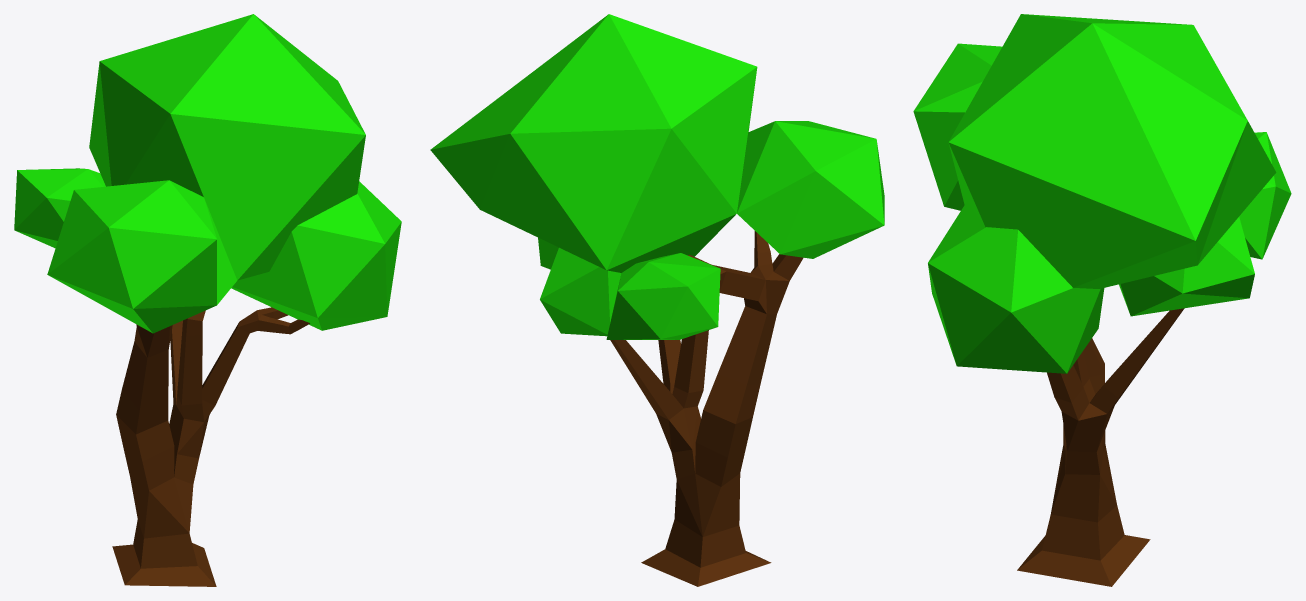
The model's file is BIG_Tree_1.fbx.
3 views of the same model, side by side, from view 1: azimuth 30°, elevation 25°; view 2: azimuth 150°, elevation 25°; view 3: azimuth 270°, elevation 25° (orthographic). The views are drawn at different scales.
Visible parts, largest first — view 1: Icosphere, Stump; view 2: Icosphere, Stump; view 3: Icosphere, Stump.
Part boxes in pixels (box(x1,y1,x2,y2)): Icosphere: box(14, 14, 401, 333); Stump: box(112, 307, 309, 586); Icosphere: box(430, 14, 884, 339); Stump: box(610, 231, 803, 586); Icosphere: box(913, 14, 1291, 373); Stump: box(1017, 308, 1184, 586).
Size of the model in its own units: 443 by 604 by 353.
